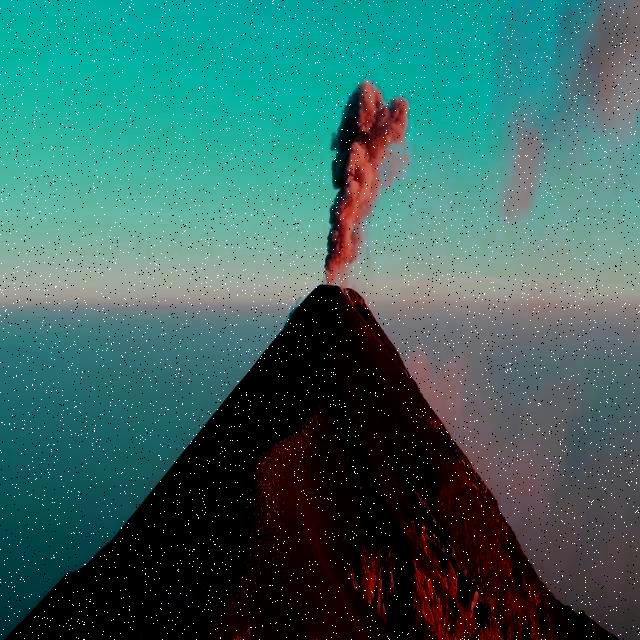Plume: (301, 69, 419, 291)
Summit: (134, 284, 503, 506)
